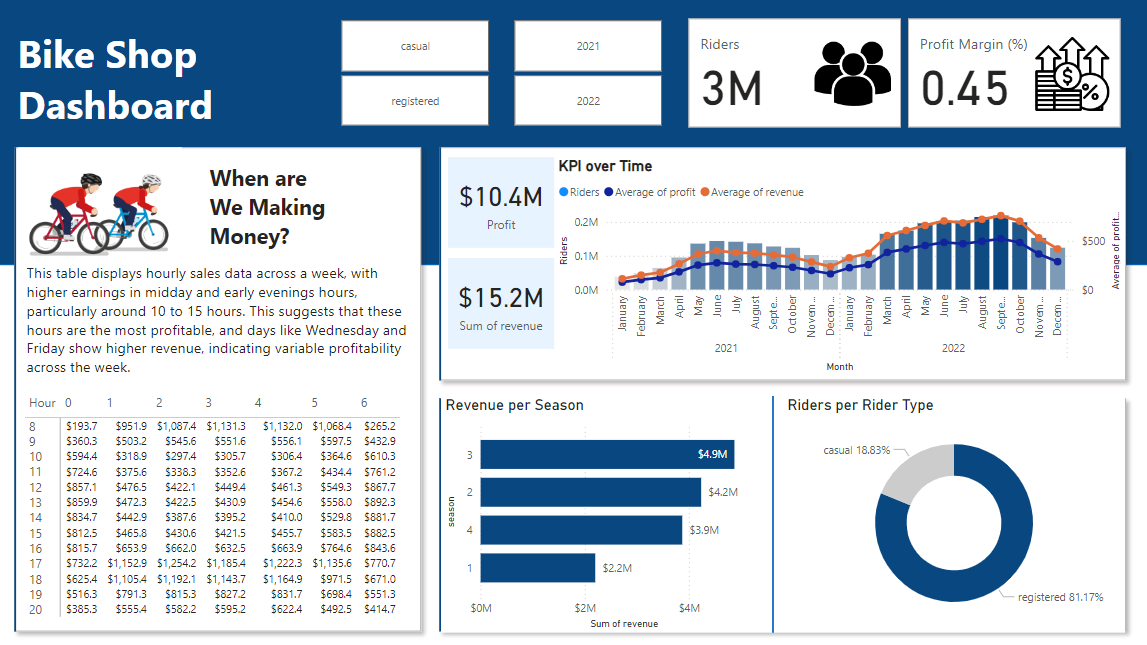

This screenshot's page, from the dashboard's own definition file:
{"tool":"powerbi","page":{"name":"Page 1","canvas":[1440,720],"ordinal":0},"visuals":[{"type":"shape","box":[0,0,1871.1,295.6],"z":0},{"type":"cardVisual","fields":{"Data":["Min(bike_data.riders)"]},"box":[0,147.8,653.3,572.2],"z":1000},{"type":"cardVisual","fields":{"Data":["Min(bike_data.riders)"]},"box":[642.4,425.9,797.4,293.9],"z":2000},{"type":"cardVisual","fields":{"Data":["Min(bike_data.riders)"]},"box":[0,147.8,233.3,157.8],"z":3000},{"type":"pivotTable","fields":{"Values":["Sum(bike_data.revenue)"],"Rows":["bike_data.hr"]},"box":[23.3,371.1,221.1,321.1],"z":4000},{"type":"textbox","box":[265.6,183.3,283.3,86.7],"z":5000},{"type":"textbox","box":[25.6,287.8,594.4,83.3],"z":6000},{"type":"cardVisual","fields":{"Data":["Min(bike_data.riders)"]},"box":[642.4,147.5,797.4,293.9],"z":7000},{"type":"lineClusteredColumnComboChart","title":"KPI over Time","fields":{"Category":["bike_data.dteday.Variation.Date Hierarchy.Year","bike_data.dteday.Variation.Date Hierarchy.Month","bike_data.dteday.Variation.Date Hierarchy.Day"],"Y":["Sum(bike_data.riders)"],"Y2":["Avg(bike_data.profit)","Avg(bike_data.revenue)"]},"box":[787.8,175.6,633.9,243.7],"z":8000},{"type":"barChart","title":"Revenue per Season","fields":{"Category":["bike_data.seasons"],"Y":["Sum(bike_data.revenue)"]},"box":[662.4,443,379.1,262.8],"z":9000},{"type":"donutChart","title":"Riders per Rider Type","fields":{"Category":["bike_data.rider_type"],"Y":["Sum(bike_data.riders)"]},"box":[1041.6,443,380.2,262.8],"z":10000},{"type":"shape","box":[891.1,443,299.9,262.8],"z":11000},{"type":"card","fields":{"Values":["Sum(bike_data.profit)"]},"box":[666.4,175.6,118.4,101.3],"z":12000},{"type":"card","fields":{"Values":["Sum(bike_data.revenue)"]},"box":[666.4,287.9,118.4,101.3],"z":13000},{"type":"cardVisual","fields":{"Data":["Sum(bike_data.riders)","bike_data.Profit Margin"]},"box":[932.2,17.8,490,131.1],"z":14000},{"type":"slicer","fields":{"Values":["bike_data.Year"]},"box":[721.1,17.8,214.4,131.1],"z":15000},{"type":"textbox","box":[15.6,25.6,626.7,91.1],"z":16000},{"type":"slicer","fields":{"Values":["bike_data.rider_type"]},"box":[512.2,17.8,214.4,131.1],"z":17000},{"type":"pivotTable","fields":{"Values":["Sum(bike_data.revenue)"],"Rows":["bike_data.Weekday_name"]},"box":[244.4,371.1,235.6,223.3],"z":18000},{"type":"textbox","box":[233.3,617.8,388.9,63.3],"z":19000},{"type":"shape","box":[62.2,371.1,300,310],"z":20000}]}

Visuals, with their boxes on the page's 1440x720 design canvas (x1, y1, x2, y2). These are canvas units, not pixel positions in the 1147x645 screenshot, which may show the page scaled, cropped or inside an application window:
shape: (left=0, top=0, right=1871, bottom=296)
cardVisual - Min(bike_data.riders): (left=0, top=148, right=653, bottom=720)
cardVisual - Min(bike_data.riders): (left=642, top=426, right=1440, bottom=720)
cardVisual - Min(bike_data.riders): (left=0, top=148, right=233, bottom=306)
pivotTable - Sum(bike_data.revenue) x bike_data.hr: (left=23, top=371, right=244, bottom=692)
textbox: (left=266, top=183, right=549, bottom=270)
textbox: (left=26, top=288, right=620, bottom=371)
cardVisual - Min(bike_data.riders): (left=642, top=148, right=1440, bottom=441)
"KPI over Time" lineClusteredColumnComboChart: (left=788, top=176, right=1422, bottom=419)
"Revenue per Season" barChart: (left=662, top=443, right=1042, bottom=706)
"Riders per Rider Type" donutChart: (left=1042, top=443, right=1422, bottom=706)
shape: (left=891, top=443, right=1191, bottom=706)
card - Sum(bike_data.profit): (left=666, top=176, right=785, bottom=277)
card - Sum(bike_data.revenue): (left=666, top=288, right=785, bottom=389)
cardVisual - Sum(bike_data.riders) x bike_data.Profit Margin: (left=932, top=18, right=1422, bottom=149)
slicer - bike_data.Year: (left=721, top=18, right=936, bottom=149)
textbox: (left=16, top=26, right=642, bottom=117)
slicer - bike_data.rider_type: (left=512, top=18, right=727, bottom=149)
pivotTable - Sum(bike_data.revenue) x bike_data.Weekday_name: (left=244, top=371, right=480, bottom=594)
textbox: (left=233, top=618, right=622, bottom=681)
shape: (left=62, top=371, right=362, bottom=681)
